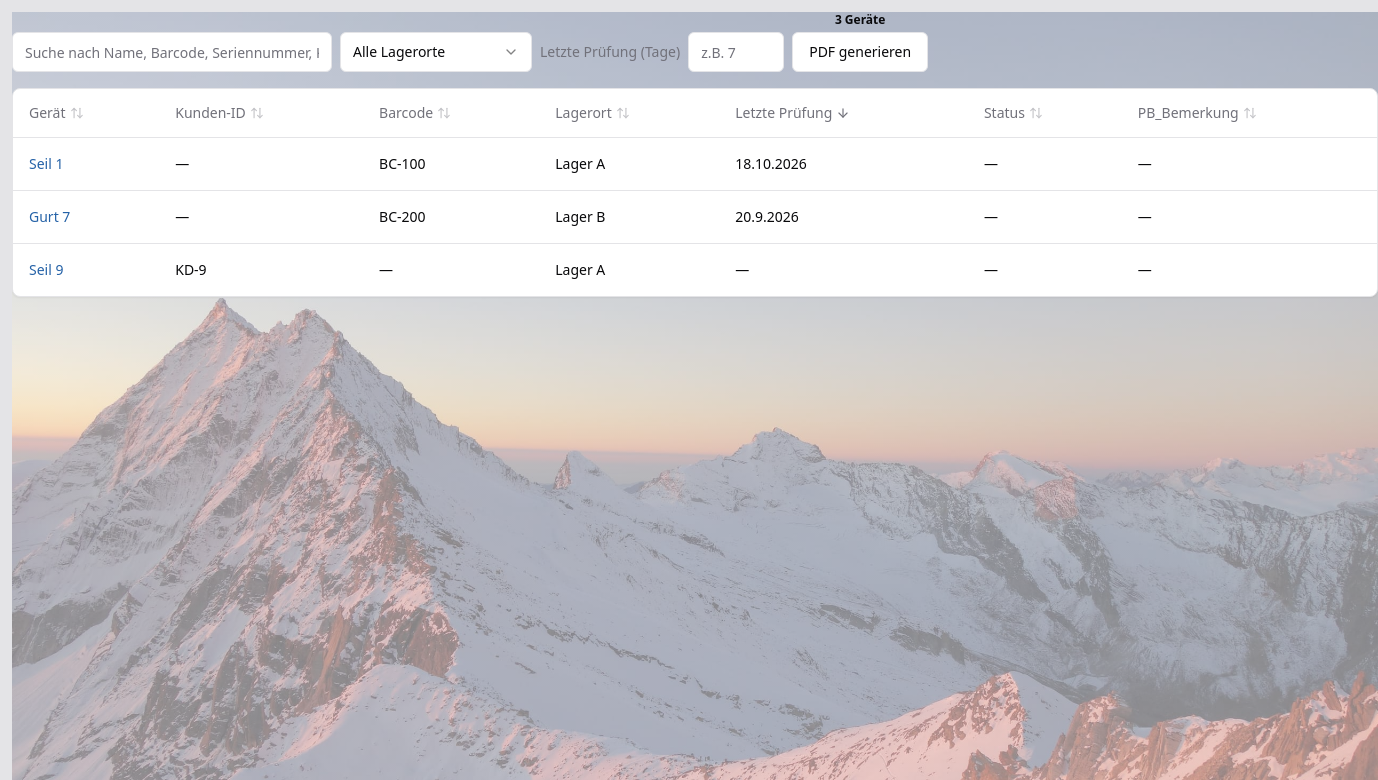
Test case: GeraeteListe — Filter › filters by search text typed into the search field
In the field with placeholder "Suche nach Name, Barcode, Seriennummer, Kunden-ID...": (172, 52) [12,32,332,72], type "seil"
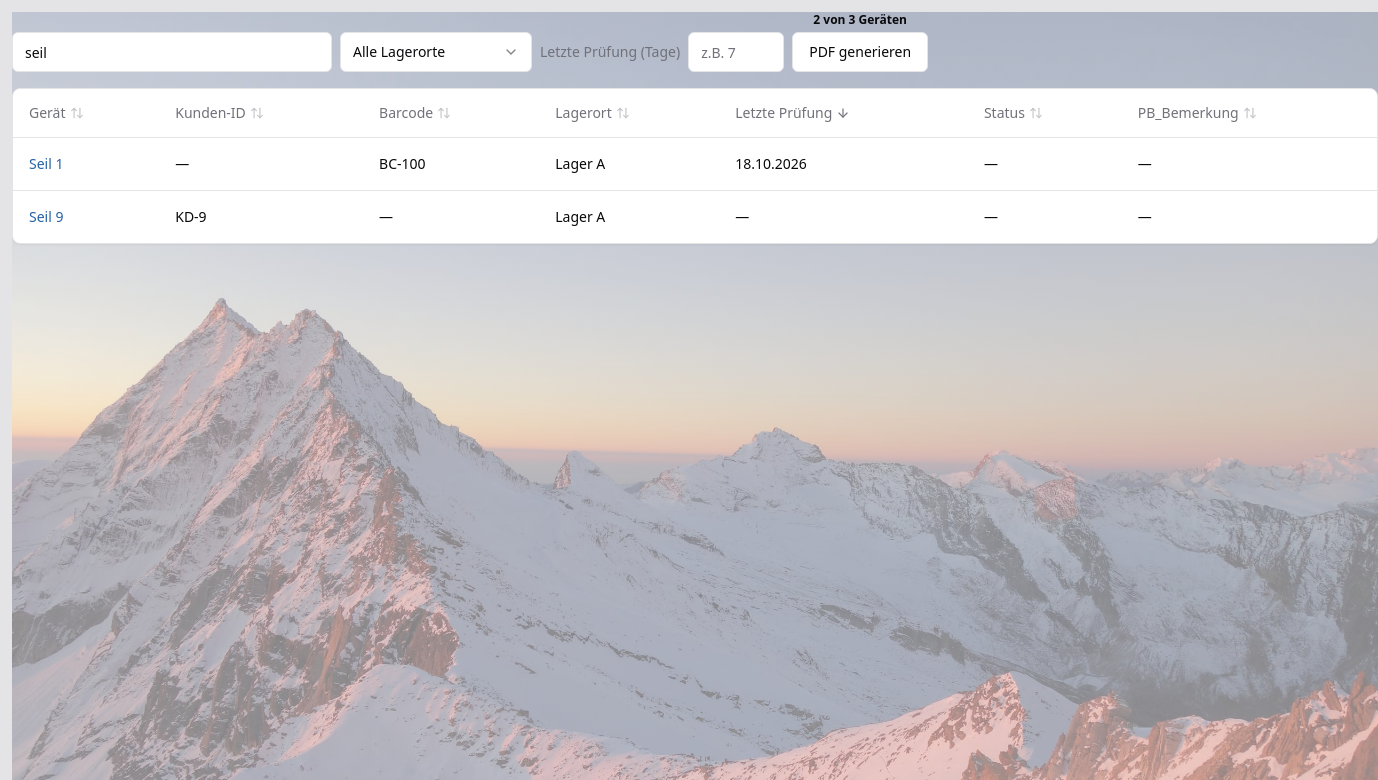
Expected: the text "2 von 3 Geräten" is shown, [813,11,907,28]
